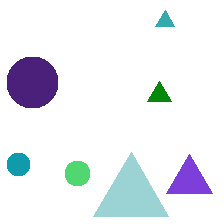circle: (7, 57, 57, 107), (65, 161, 89, 185), (7, 153, 29, 175)
triangle: (93, 152, 168, 216), (166, 154, 212, 193), (147, 81, 171, 101), (155, 10, 174, 26)
